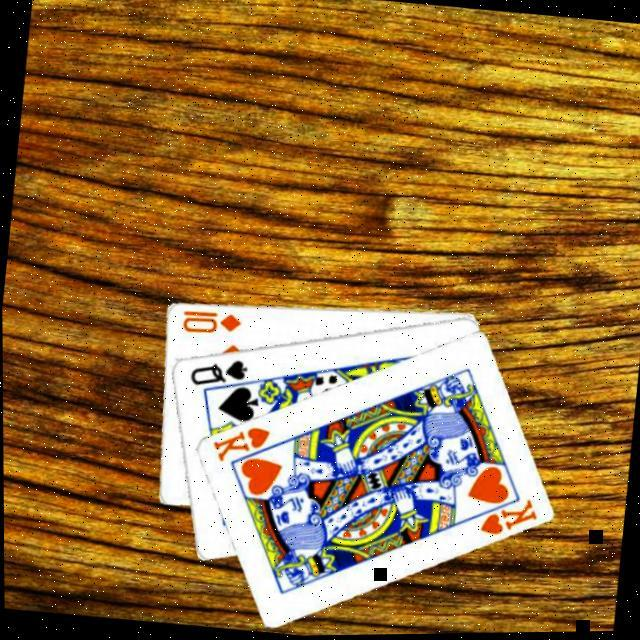10D: (179, 306, 246, 342)
KH: (475, 493, 540, 544), (208, 420, 274, 470)
QS: (186, 353, 251, 394)
